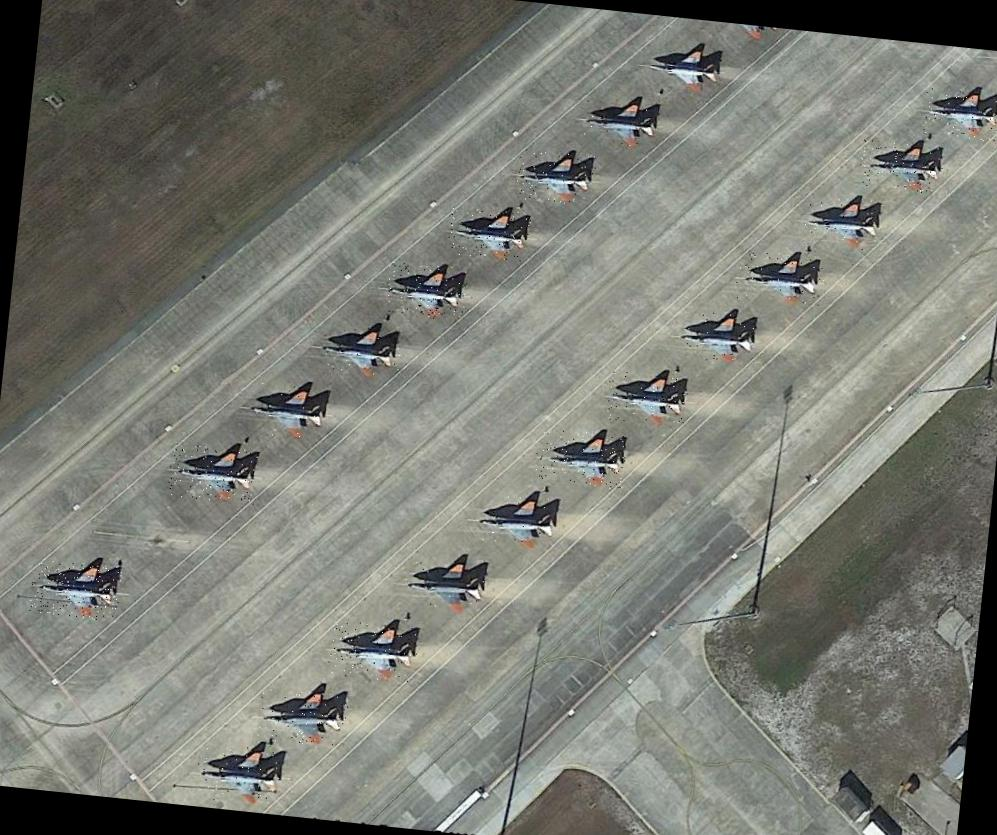A5: (256, 684, 348, 750), (533, 425, 627, 489), (28, 557, 121, 621), (468, 488, 560, 552), (326, 618, 418, 682), (166, 441, 258, 504), (194, 742, 281, 806), (733, 247, 826, 306), (239, 380, 327, 442), (604, 368, 688, 430), (398, 556, 486, 615), (384, 260, 468, 321), (512, 146, 596, 206), (319, 319, 402, 379), (446, 204, 531, 261), (858, 138, 944, 194), (678, 308, 757, 367), (802, 193, 882, 251), (576, 96, 660, 151), (640, 40, 722, 94), (920, 86, 997, 141)
